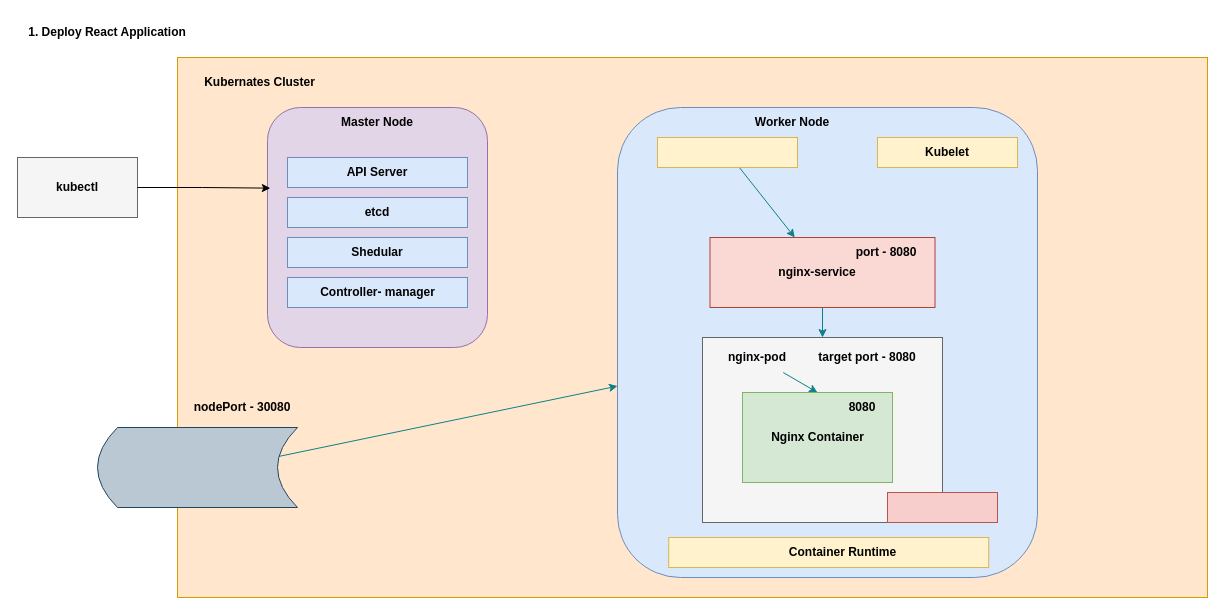
Some shapes in this 1225 by 615 pixel diagram are drawn without their labels. The box of each missing label's shape, as (x1, y1, x2, y2) in pixels:
app: client-pod: (886, 492, 998, 522)
Kube-proxy: (656, 136, 798, 168)
Node Port: (96, 426, 298, 508)
